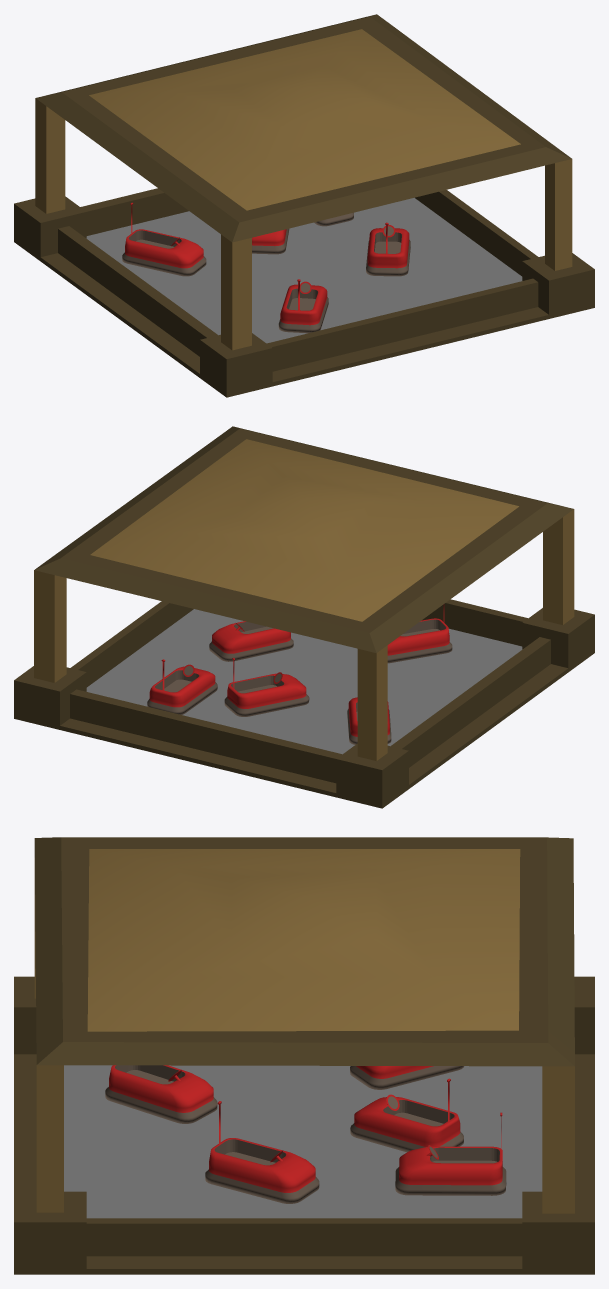
The model's file is BumperCars.fbx.
3 views of the same model, one above another, from view 1: azimuth 30°, elevation 25°; view 2: azimuth 150°, elevation 25°; view 3: azimuth 270°, elevation 25° (orthographic). The views are drawn at different scales.
Visible parts, largest first — view 1: Cube, Cart.001, Cart.002, Cart.003, Cart; view 2: Cube, Cart, Cart.003, Cart.004, Cart.002, Cart.001; view 3: Cube, Cart.003, Cart.004, Cart.002, Cart, Cart.001.
Boxes of the visible parts, box(x1,y1,x2,y2) form: Cube: box(14, 14, 594, 397); Cart.001: box(122, 202, 206, 276); Cart.002: box(278, 279, 328, 333); Cart.003: box(366, 222, 410, 276); Cart: box(252, 228, 289, 254); Cube: box(14, 426, 594, 808); Cart: box(224, 658, 309, 716); Cart.003: box(209, 621, 293, 661); Cart.004: box(147, 659, 217, 714); Cart.002: box(387, 604, 452, 663); Cart.001: box(347, 697, 391, 744); Cube: box(14, 837, 594, 1274); Cart.003: box(205, 1101, 319, 1203); Cart.004: box(395, 1112, 506, 1195); Cart.002: box(105, 1065, 217, 1123); Cart: box(350, 1078, 463, 1152); Cart.001: box(350, 1066, 464, 1089).
Size of the model in its own units: 2012 by 977 by 2012.
